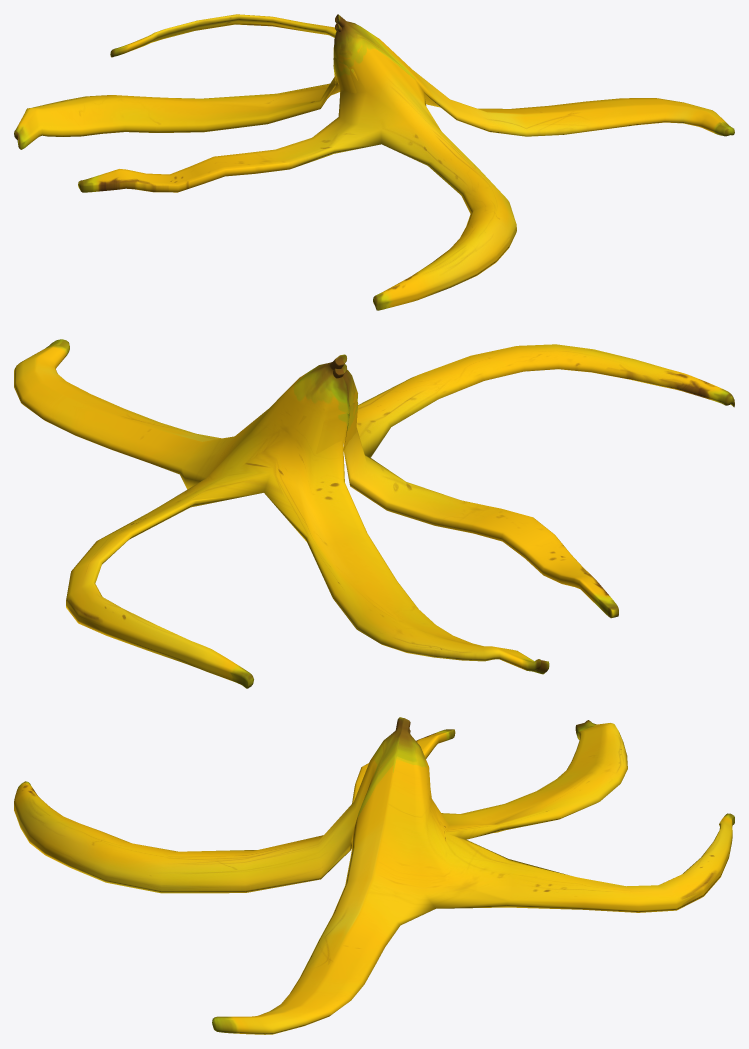
Rendered from PlatanoCascara.fbx.
3 views of the same model, one above another, from view 1: azimuth 30°, elevation 25°; view 2: azimuth 150°, elevation 25°; view 3: azimuth 270°, elevation 25° (orthographic). The views are drawn at different scales.
Parts seen in each view (by area): view 1: platano_cascara; view 2: platano_cascara; view 3: platano_cascara.
Part boxes in pixels (<box>): platano_cascara: <box>14,14,734,310</box>; platano_cascara: <box>14,339,734,688</box>; platano_cascara: <box>14,717,734,1034</box>.
Bounding box in the file's own units: 4.86 × 1.13 × 4.93.
